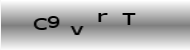9: (48, 15, 60, 29)
C: (33, 16, 47, 31)
T: (121, 12, 137, 26)
r: (97, 12, 109, 23)
v: (70, 25, 84, 35)
